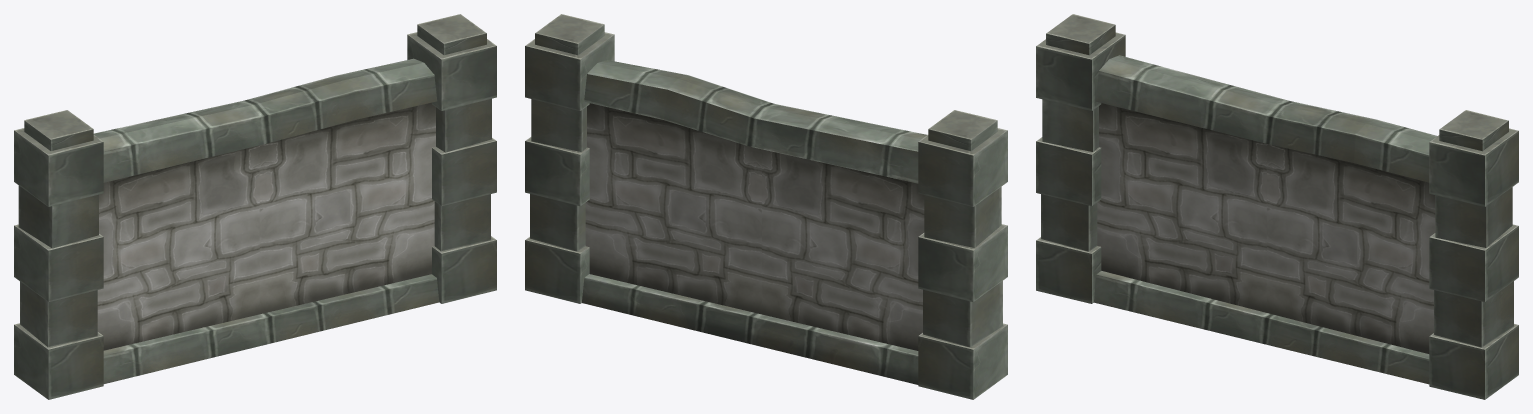
The model's file is wall_01.fbx.
3 renders of one model, left to right at view 1: azimuth 30°, elevation 25°; view 2: azimuth 150°, elevation 25°; view 3: azimuth 330°, elevation 25°, orthographic.
Visible parts, largest first — view 1: wall_01:Mesh; view 2: wall_01:Mesh; view 3: wall_01:Mesh.
Boxes of the visible parts, x1,y1,x2,y2 form: wall_01:Mesh: (14, 14, 496, 399); wall_01:Mesh: (525, 14, 1007, 399); wall_01:Mesh: (1036, 14, 1518, 399).
Bounding box in the file's own units: 5.15 × 2.81 × 0.6835.
